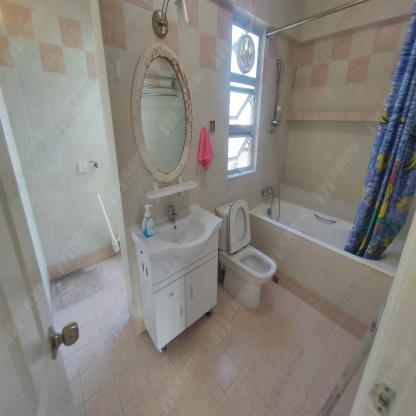Bathtub: (249, 197, 405, 345)
Exhaust Fan: (232, 28, 258, 76)
Faucet: (167, 203, 180, 224)
Toilet: (215, 198, 277, 307)
Toilet Sink: (131, 203, 223, 263)
